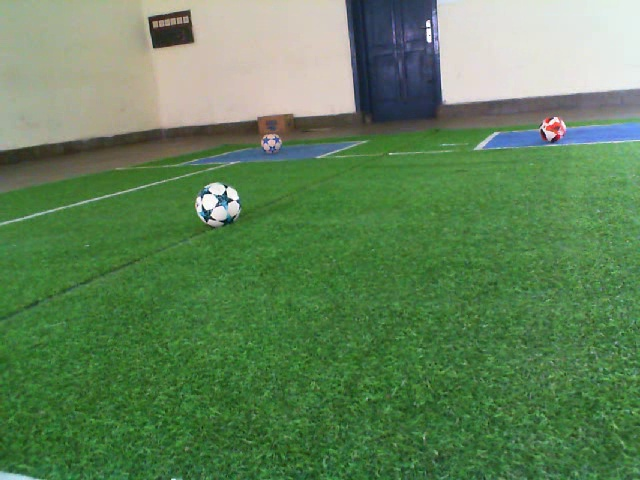ball: (192, 180, 243, 230), (537, 114, 569, 144), (258, 130, 285, 157)
